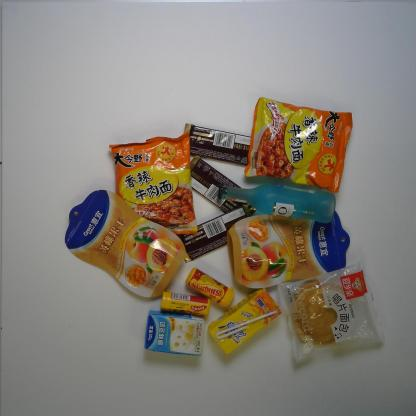Alcohol: (216, 182, 337, 224)
Candy: (178, 267, 235, 310), (159, 288, 212, 319)
Chocolate: (180, 153, 258, 220), (176, 205, 259, 262), (183, 123, 263, 165)
Dessert: (276, 261, 388, 367)
Dried Fruit: (63, 190, 186, 300), (224, 203, 354, 290)
Drink: (208, 287, 283, 355)
Instant Noodles: (244, 97, 354, 194), (107, 132, 198, 238)
Milk: (144, 310, 206, 356)
